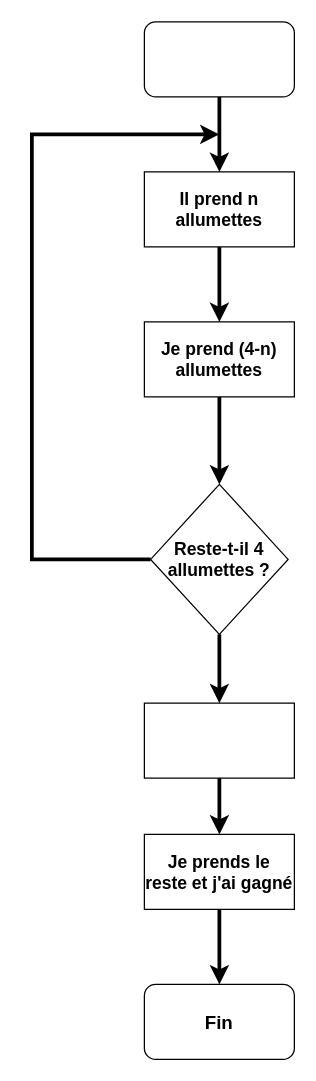
Image size: 316x1081. Some labels were removed from this diagram. Each missing label, with the centre of its shape:
"Début" belongs at [218,59].
"il prend 1, 2 ou 3 allumettes" belongs at [218,740].
